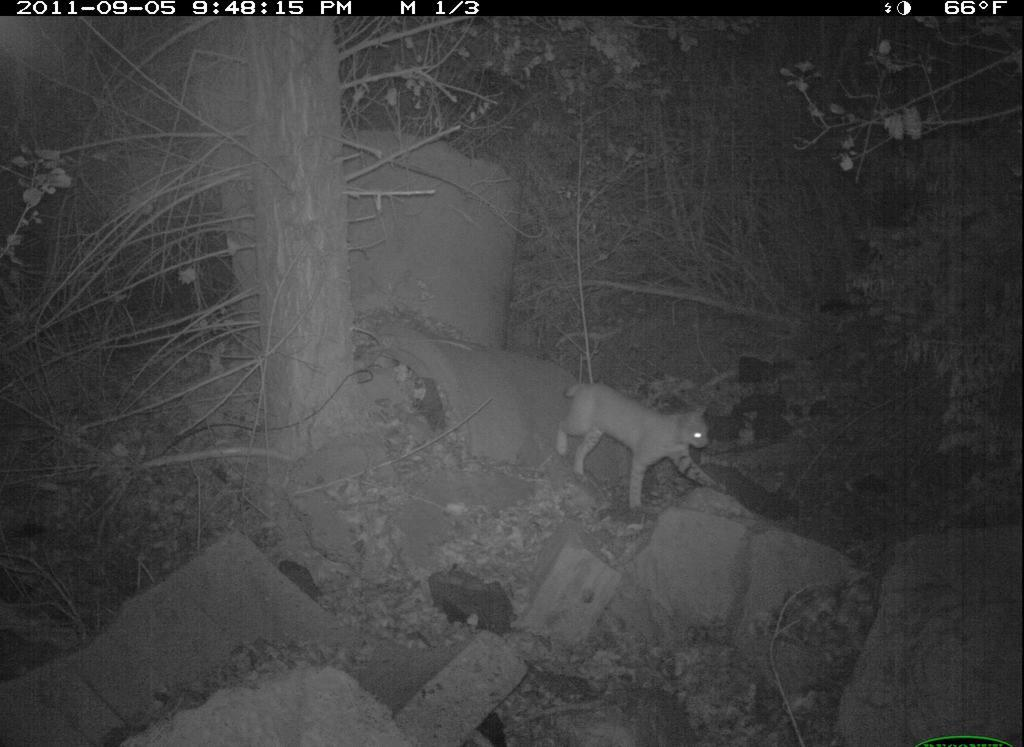bobcat: (550, 377, 726, 519)
